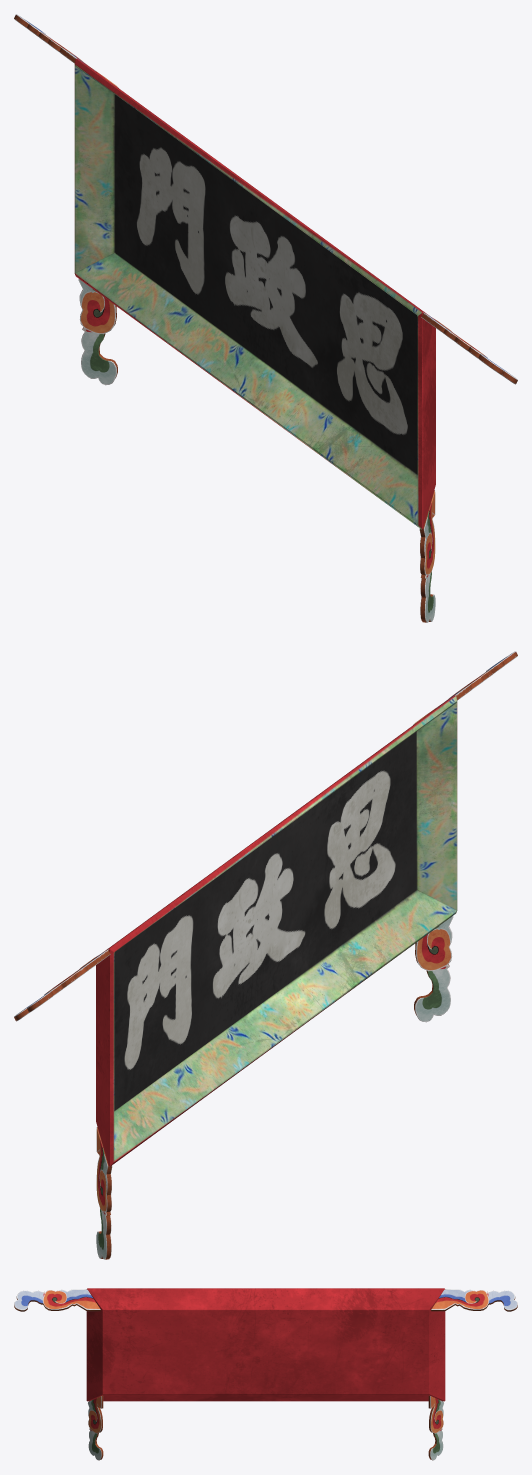
The model's file is SM_SJM_Stela.fbx.
3 renders of one model, top to bottom at view 1: azimuth 30°, elevation 25°; view 2: azimuth 150°, elevation 25°; view 3: azimuth 270°, elevation 25°, orthographic. The views are drawn at different scales.
Parts seen in each view (by area): view 1: SM_SJM_Stela; view 2: SM_SJM_Stela; view 3: SM_SJM_Stela.
Boxes of the visible parts, left/top/right/bottom form: SM_SJM_Stela: left=14, top=14, right=517, bottom=622; SM_SJM_Stela: left=14, top=651, right=517, bottom=1259; SM_SJM_Stela: left=14, top=1288, right=517, bottom=1460.
Size of the model in its own units: 6.22 by 160 by 58.39.
Materials: 1 (1 with a texture image).
